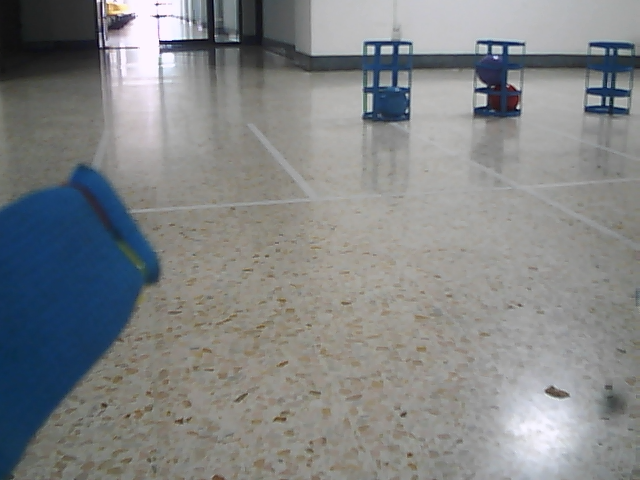Blue ball: (378, 85, 408, 118)
Cyro: (360, 38, 415, 123), (471, 38, 528, 119), (582, 38, 635, 120)
Purple ball: (478, 55, 507, 85)
Red ball: (489, 84, 520, 115)
